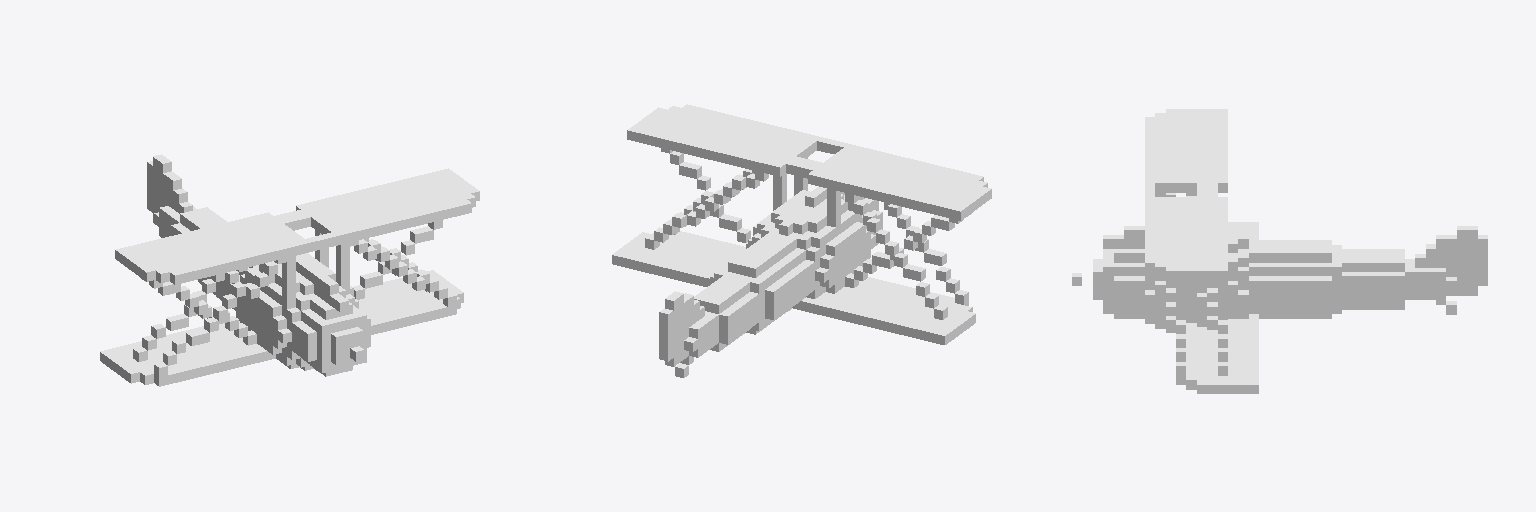
File: Camel-0.obj
3 views of the same model, side by side, from view 1: azimuth 30°, elevation 25°; view 2: azimuth 150°, elevation 25°; view 3: azimuth 270°, elevation 25° (orthographic).
Visible parts, largest first — view 1: Camel-0; view 2: Camel-0; view 3: Camel-0.
Part boxes in pixels (left/top/right/bottom): Camel-0: left=100, top=154, right=479, bottom=386; Camel-0: left=612, top=104, right=991, bottom=377; Camel-0: left=1072, top=109, right=1487, bottom=393.
Bounding box in the file's own units: 37 × 14 × 40.